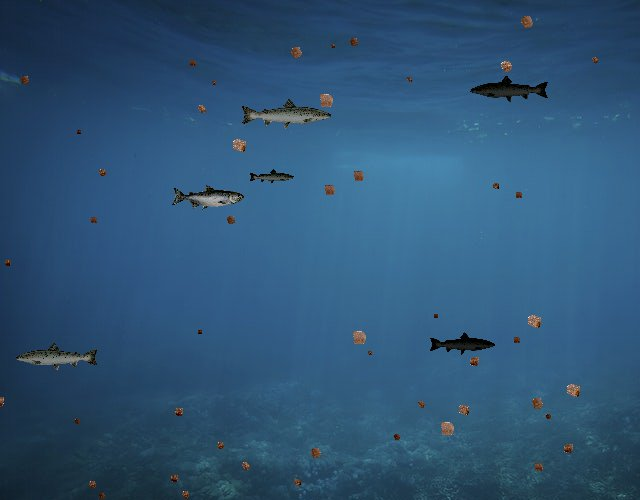Fish: (240, 97, 334, 131), (14, 341, 100, 372), (469, 74, 550, 103), (172, 185, 245, 211), (429, 332, 497, 356), (249, 169, 296, 186)
Pellet: (514, 9, 540, 35), (494, 54, 519, 79), (344, 33, 362, 51), (84, 476, 100, 492), (488, 179, 502, 193), (542, 410, 555, 423), (208, 78, 218, 88)
